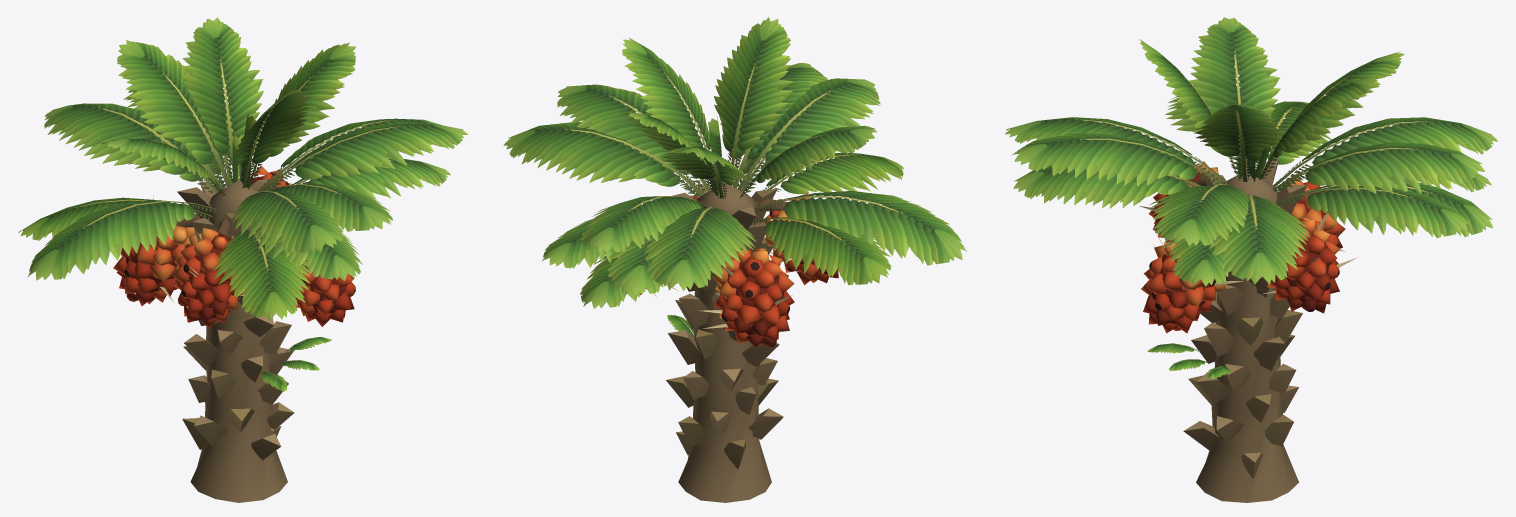
Rendered from sawit_3.glb.
The picture shows the model from 3 angles, left to right: view 1: azimuth 30°, elevation 25°; view 2: azimuth 150°, elevation 25°; view 3: azimuth 270°, elevation 25°; orthographic projection. The views are drawn at different scales.
Parts seen in each view (by area): view 1: sawit_3_body, Fruit_2, Fruit_1, Fruit_3; view 2: sawit_3_body, Fruit_1, Fruit_2; view 3: sawit_3_body, Fruit_0, Fruit_3, Fruit_1, Fruit_2.
Part boxes in pixels (x1,y1,x2,y2): sawit_3_body: (18,17,468,502); Fruit_2: (173,217,243,327); Fruit_1: (113,196,209,305); Fruit_3: (295,260,355,326); sawit_3_body: (503,17,966,502); Fruit_1: (699,243,794,347); Fruit_2: (753,193,838,285); sawit_3_body: (1005,17,1497,502); Fruit_0: (1262,207,1357,313); Fruit_3: (1141,229,1243,333); Fruit_1: (1277,178,1345,251); Fruit_2: (1139,161,1224,242).
Size of the model in its own units: 5 by 4.6 by 4.68.
Materials: 3 (2 with a texture image).
